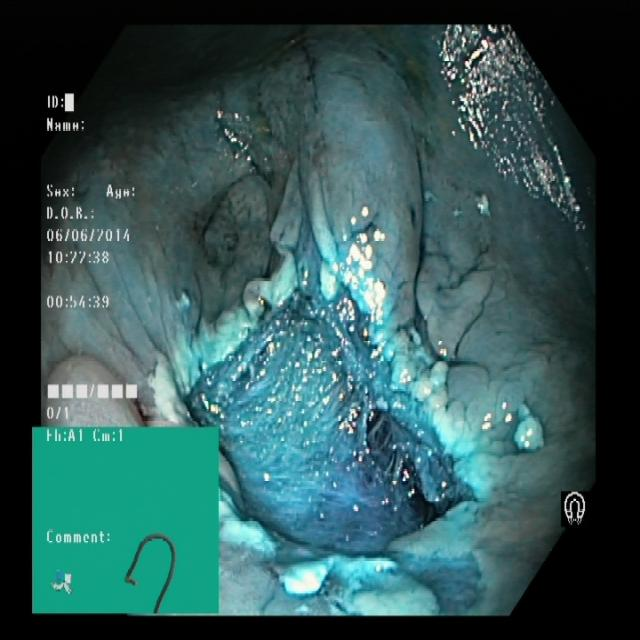dyed-resection-margins: (143, 194, 500, 616)
